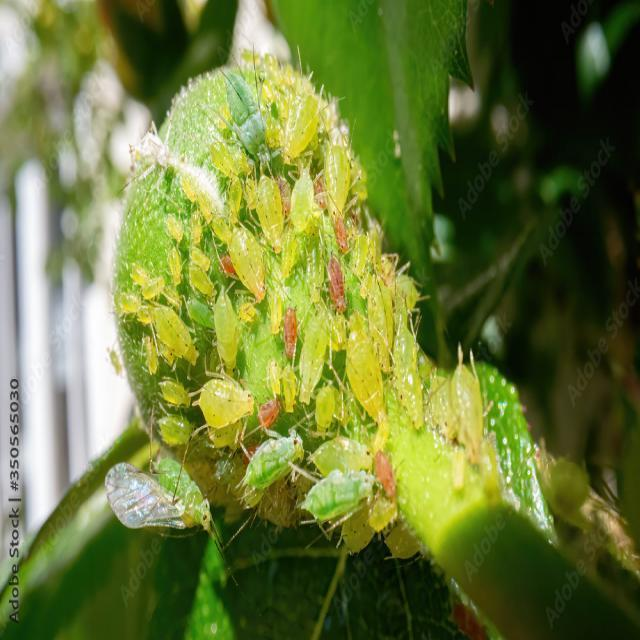Aphids: (114, 42, 505, 570)
